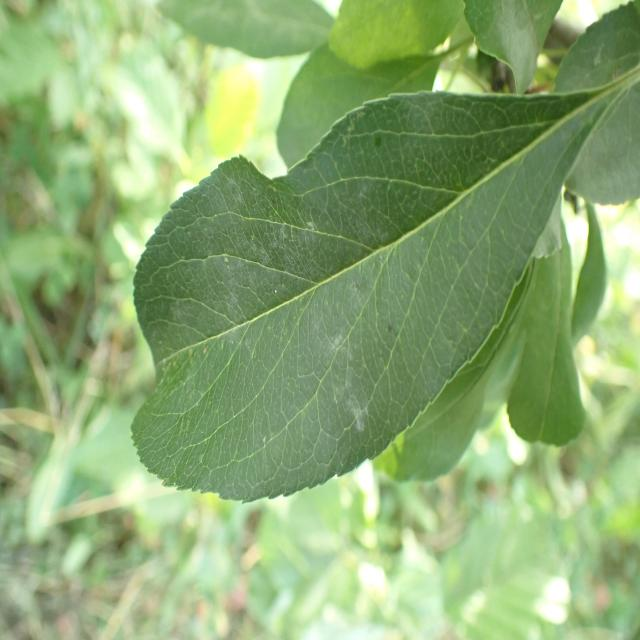Powdery_mildew: (136, 86, 543, 462)
